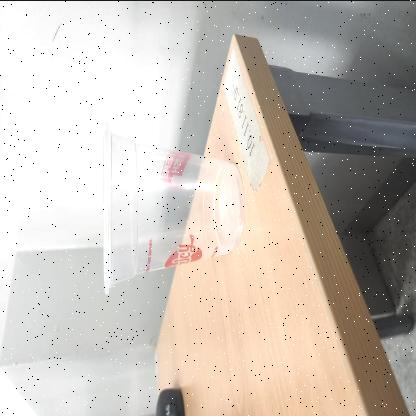Others: (102, 119, 244, 295)
